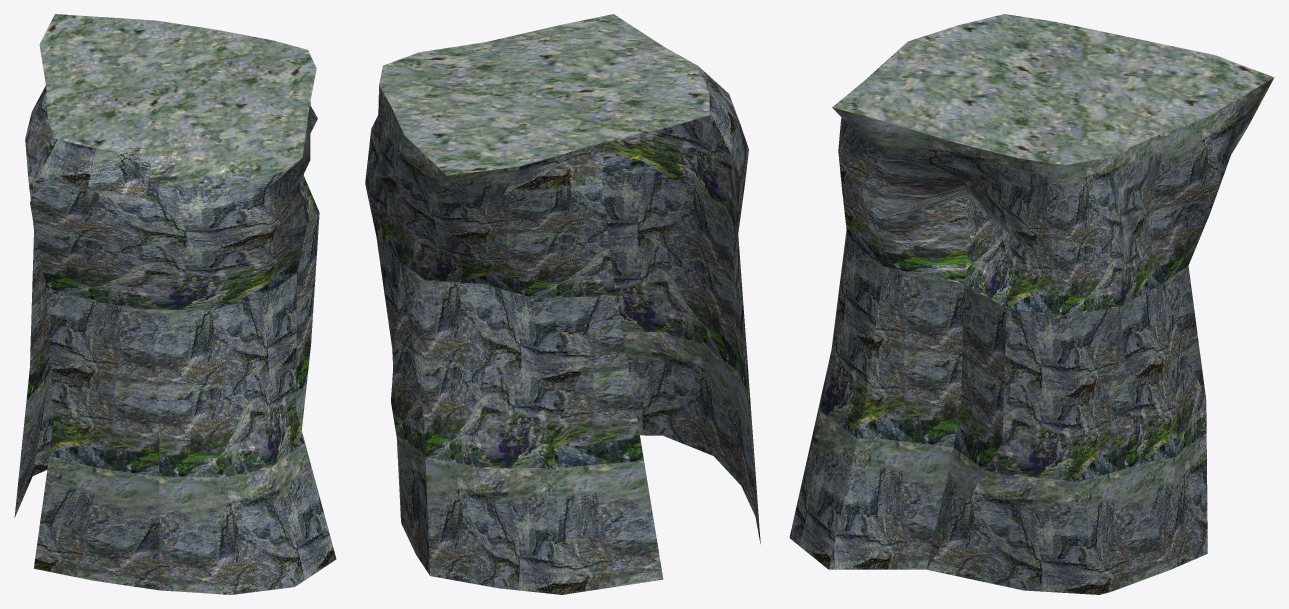
3 renders of one model, left to right at view 1: azimuth 30°, elevation 25°; view 2: azimuth 150°, elevation 25°; view 3: azimuth 270°, elevation 25°, orthographic. The views are drawn at different scales.
Parts seen in each view (by area): view 1: Object46; view 2: Object46; view 3: Object46.
Boxes of the visible parts, x1=… form: Object46: x1=14, y1=14, x2=336, y2=594; Object46: x1=365, y1=14, x2=760, y2=594; Object46: x1=789, y1=14, x2=1274, y2=594.
Bounding box in the file's own units: 437 × 541 × 527.
